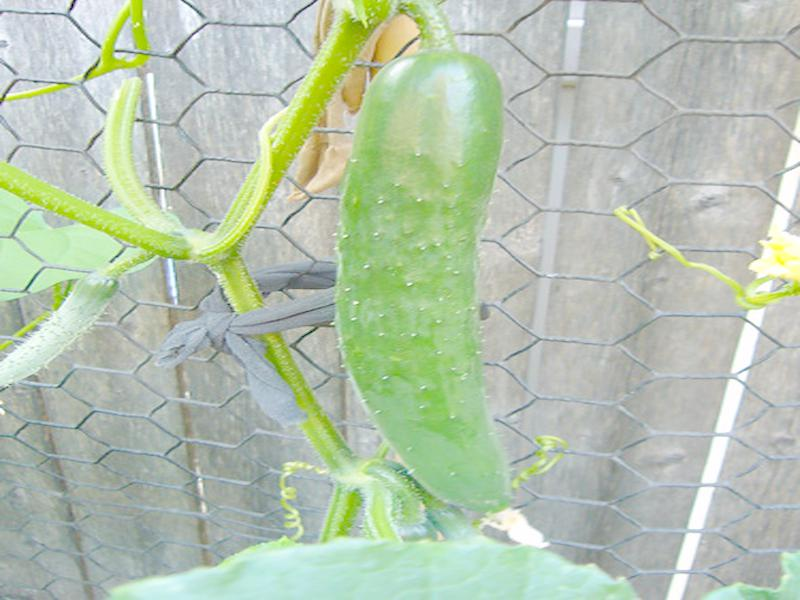Cucumber: (332, 50, 513, 510)
